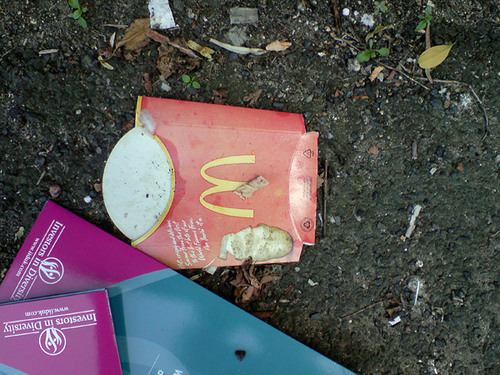litter: (1, 199, 344, 362), (97, 92, 317, 269)
